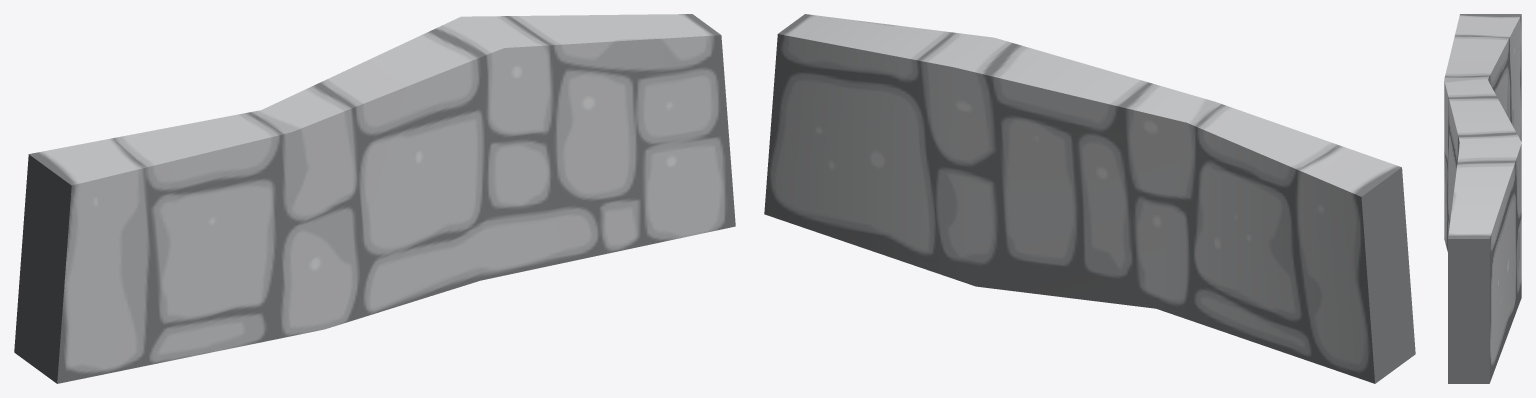
Rendered from muro02.FBX.
3 renders of one model, left to right at view 1: azimuth 30°, elevation 25°; view 2: azimuth 150°, elevation 25°; view 3: azimuth 270°, elevation 25°, orthographic. The views are drawn at different scales.
Visible parts, largest first — view 1: muro02; view 2: muro02; view 3: muro02.
Part boxes in pixels (x1,y1,x2,y2): muro02: (14,14,735,383); muro02: (764,14,1415,383); muro02: (1444,14,1521,383).
Bounding box in the file's own units: 180 × 58.21 × 25.12.
